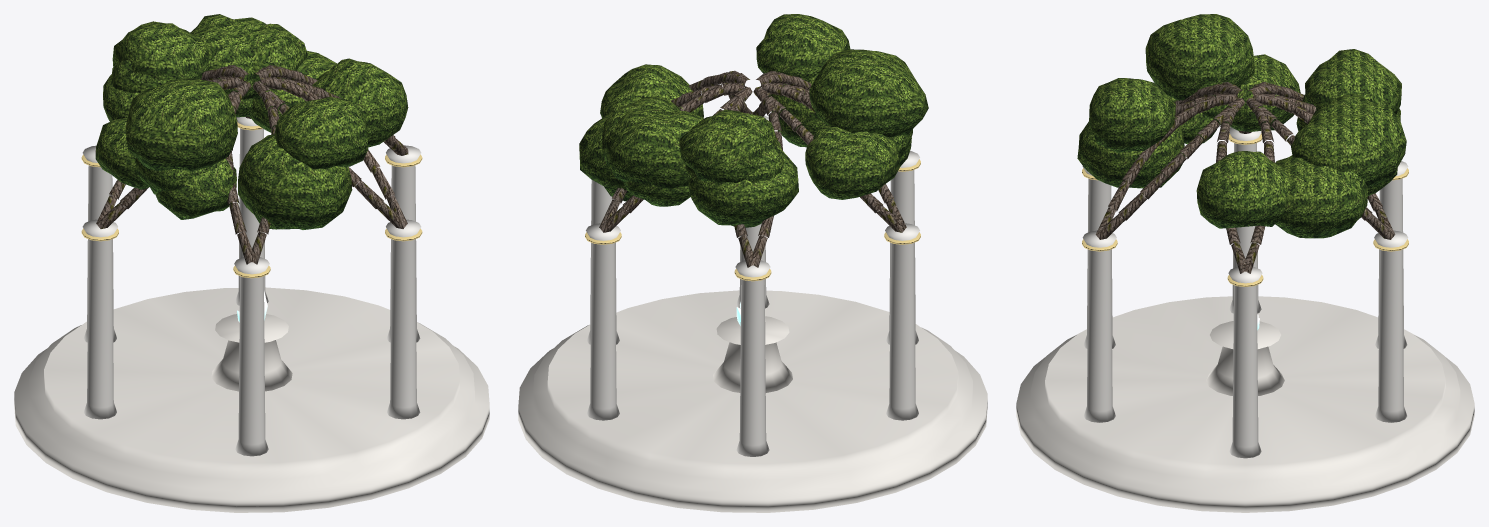
The model's file is shrine.glb.
The picture shows the model from 3 angles, left to right: view 1: azimuth 30°, elevation 25°; view 2: azimuth 150°, elevation 25°; view 3: azimuth 270°, elevation 25°; orthographic projection. The views are drawn at different scales.
Parts seen in each view (by area): view 1: Shrine; view 2: Shrine; view 3: Shrine.
Part boxes in pixels (x1,y1,x2,y2): Shrine: (14, 14, 489, 512); Shrine: (518, 14, 987, 512); Shrine: (1016, 14, 1474, 512).
Size of the model in its own units: 12.8 by 10.89 by 12.8.
Materials: 7 (2 with a texture image).
